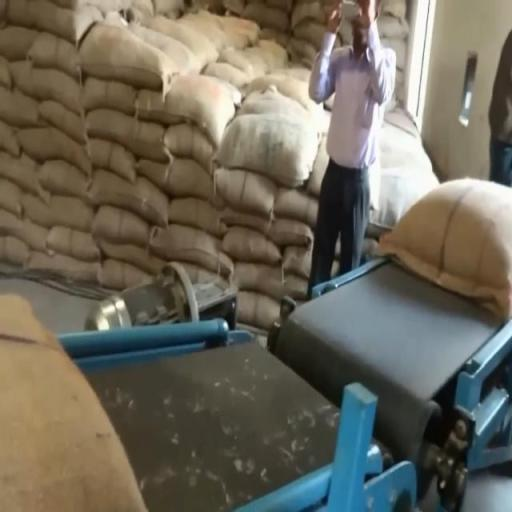c-belt-sack-count: (0, 295, 146, 511), (380, 178, 511, 318)
